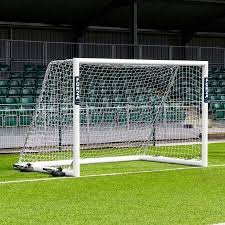goal: (71, 56, 210, 179)
